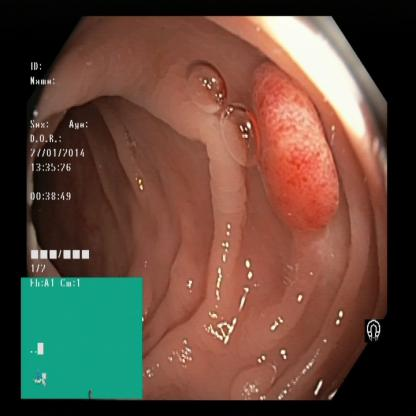Labels: (28, 59, 113, 275), (21, 278, 143, 397), (362, 314, 389, 349)
Polyps: (258, 68, 348, 224)
